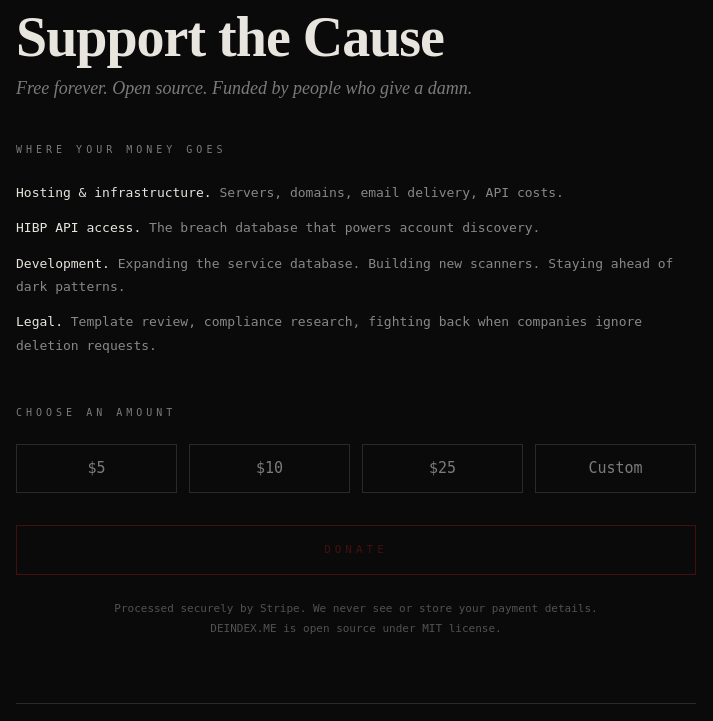
Test: DonatePage › shows custom input when Custom is clicked
The width and height of the screenshot is (713, 721).
Click the button "Custom".
click(616, 468)  # box [535,444,696,493]
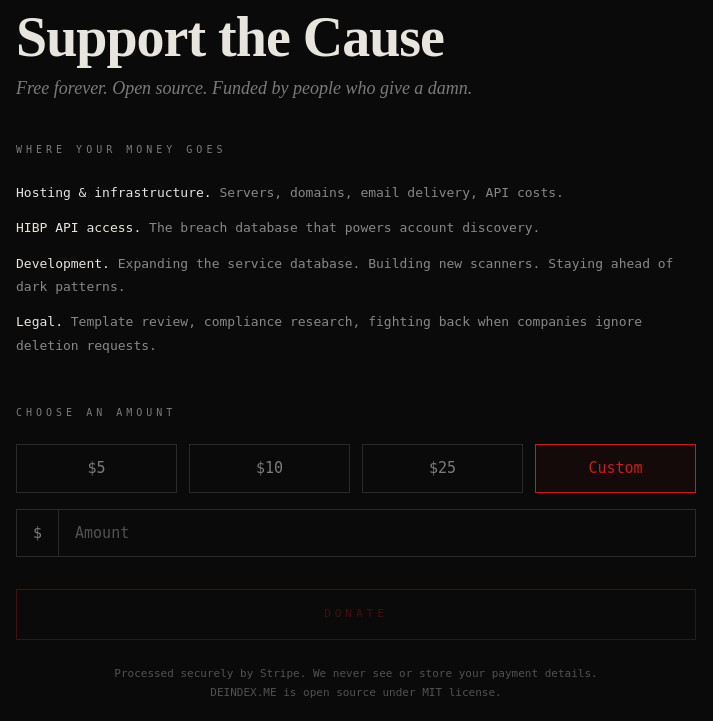
Now the number field with placeholder "Amount" is shown, box [59,510,695,556]
